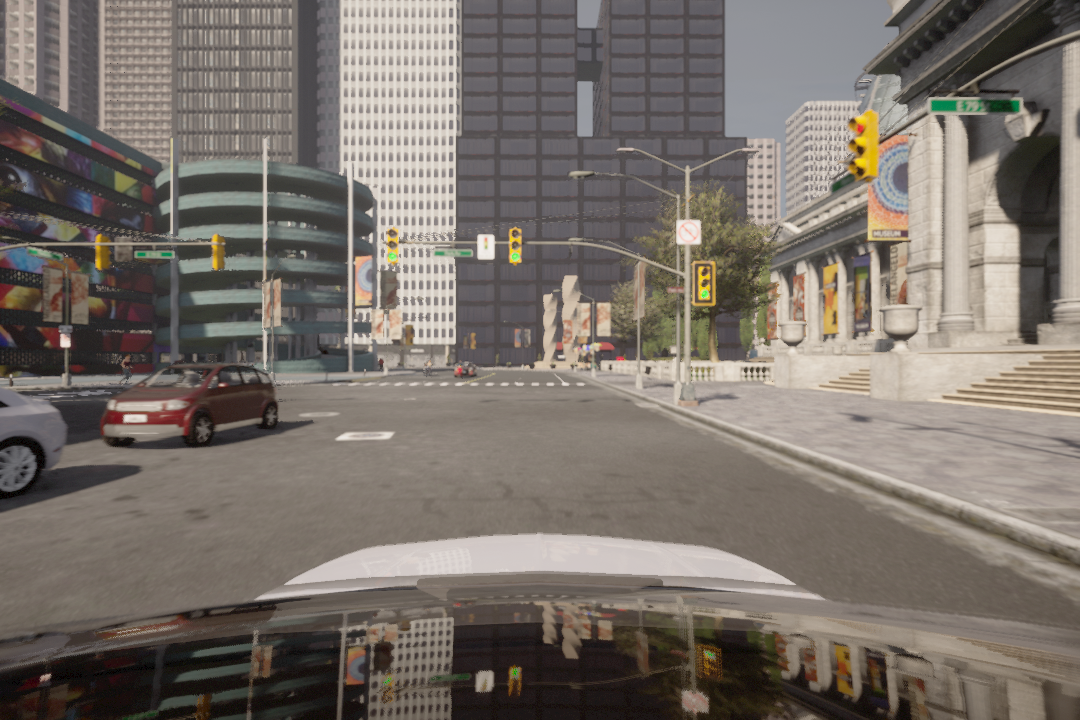TrafficLight: (695, 256, 718, 306), (508, 226, 526, 268), (381, 227, 399, 266)
TrafficSign: (676, 217, 698, 245)
